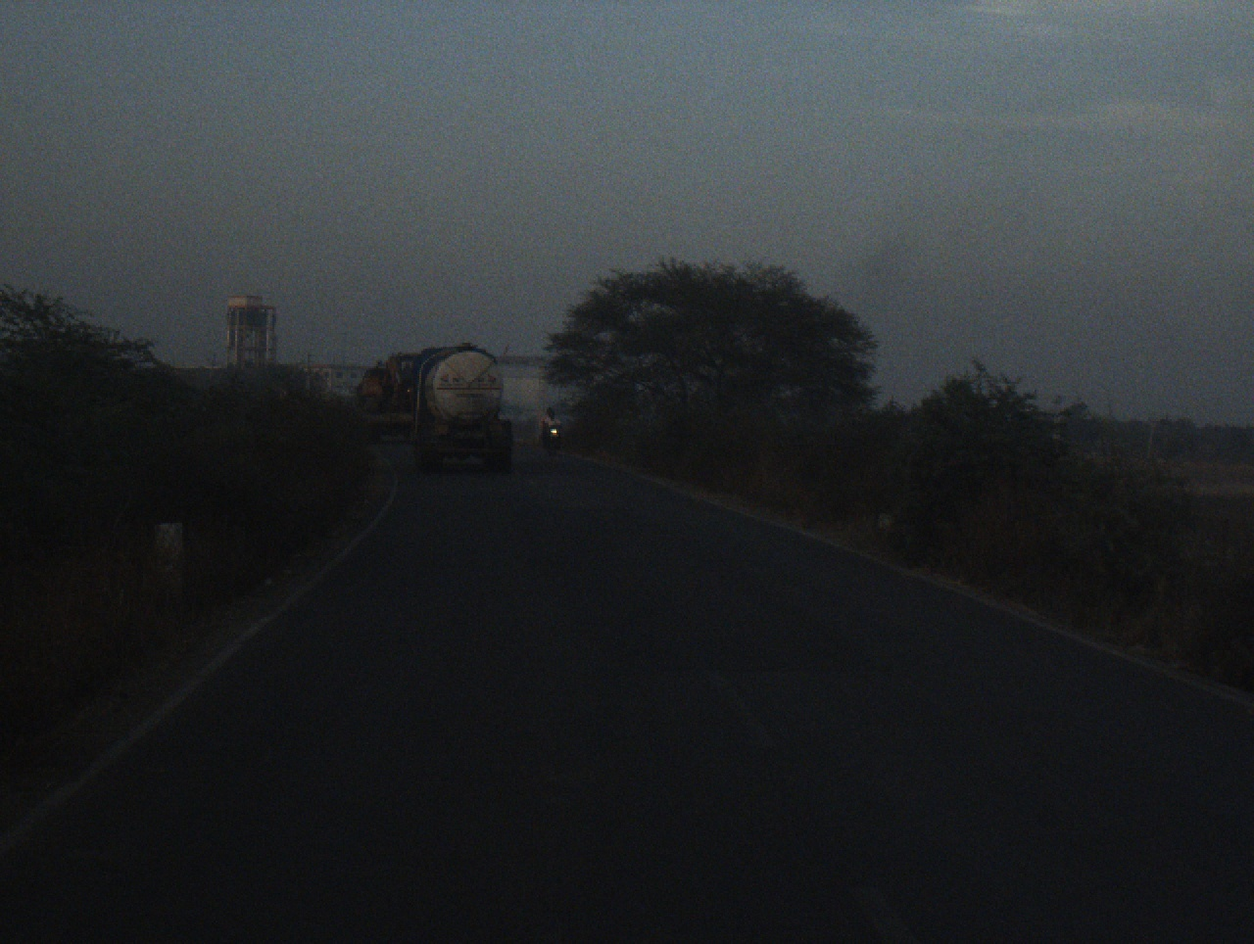motorcycle: (540, 424, 565, 456)
rider: (540, 407, 559, 442)
truck: (406, 342, 520, 488)
vehicle fallback: (344, 347, 426, 444)
